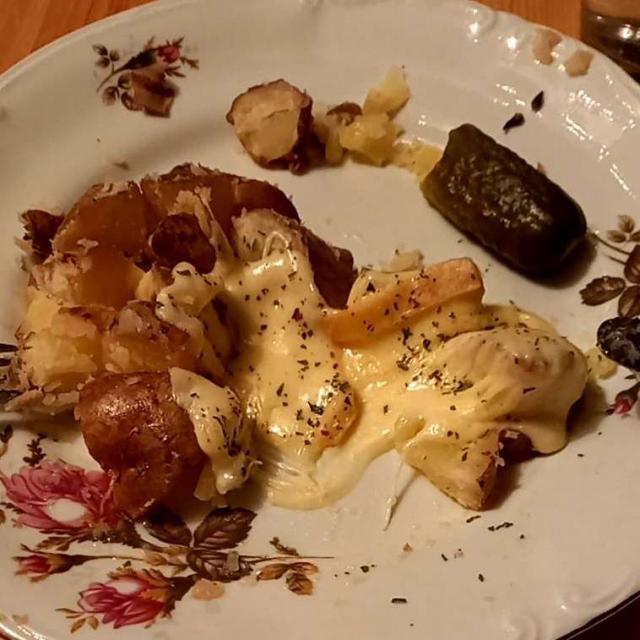cheese: (155, 254, 595, 504)
cucumber-pickled: (421, 119, 582, 275)
potatoes: (13, 68, 502, 528)
